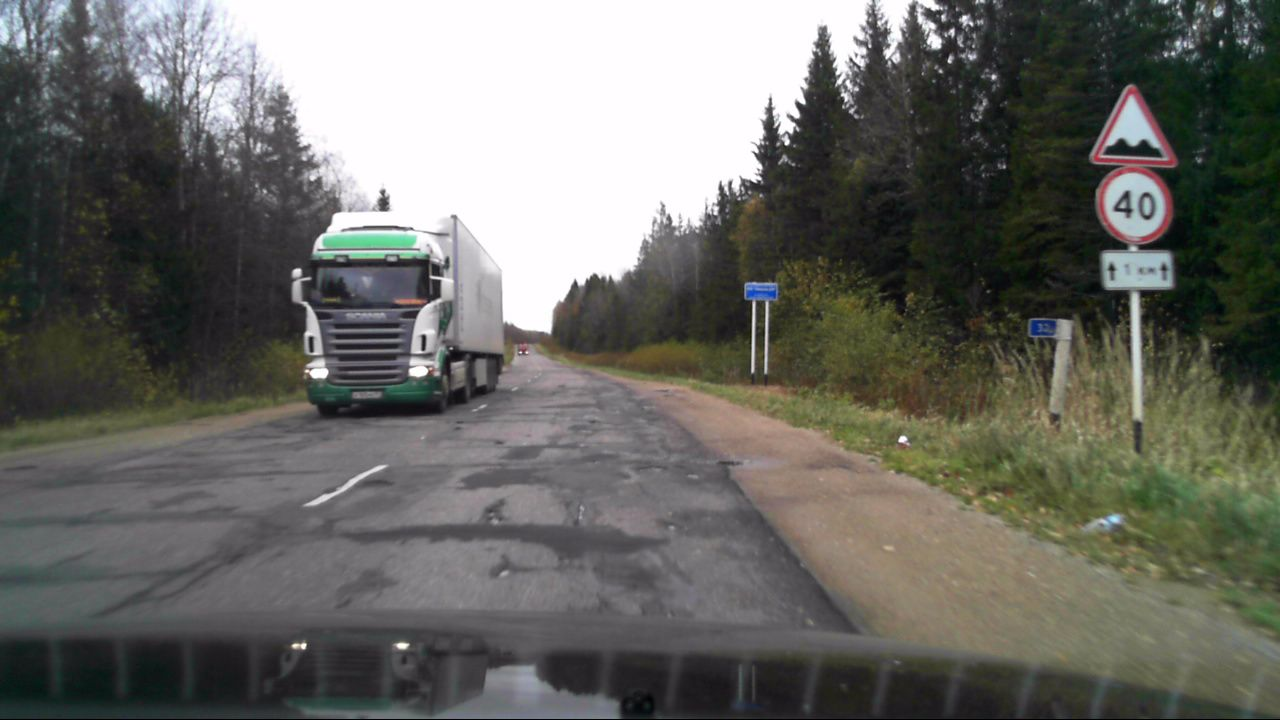speed_warning_40: (1092, 170, 1172, 246)
